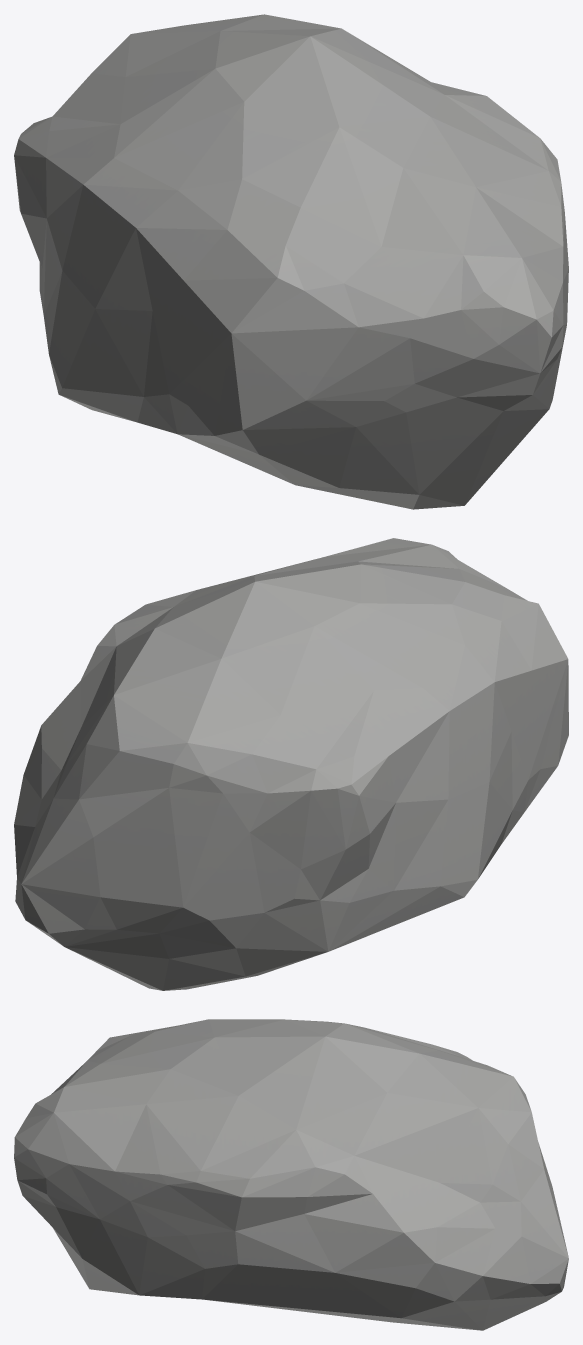
File: Cavern_Boulder-02.fbx
The picture shows the model from 3 angles, top to bottom: view 1: azimuth 30°, elevation 25°; view 2: azimuth 150°, elevation 25°; view 3: azimuth 270°, elevation 25°; orthographic projection. The views are drawn at different scales.
Visible parts, largest first — view 1: Cavern_Boulder-02; view 2: Cavern_Boulder-02; view 3: Cavern_Boulder-02.
Part boxes in pixels (x1,y1,x2,y2): Cavern_Boulder-02: (14, 14, 568, 509); Cavern_Boulder-02: (14, 538, 568, 990); Cavern_Boulder-02: (14, 1019, 568, 1330).
Size of the model in its own units: 646 by 544 by 948.
1 material, 1 textured.
